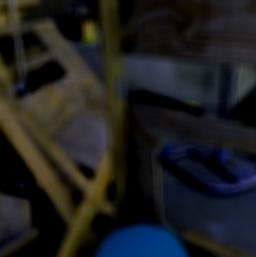algae: (89, 223, 192, 257)
